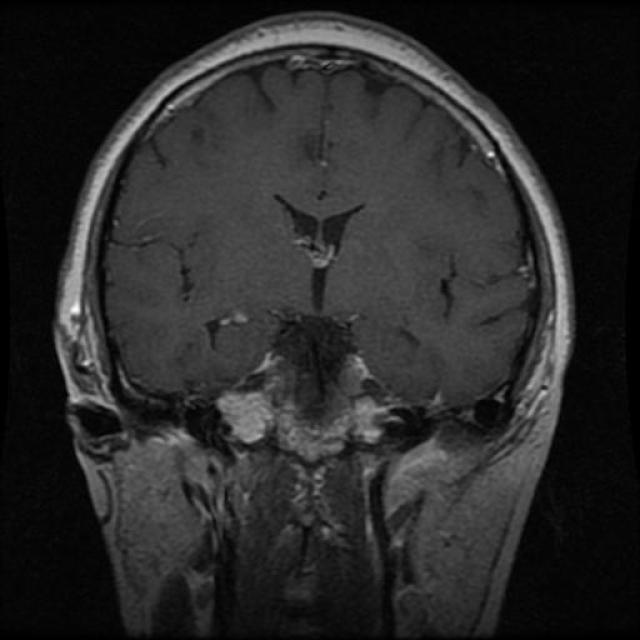pituitary: (233, 316, 381, 467)
